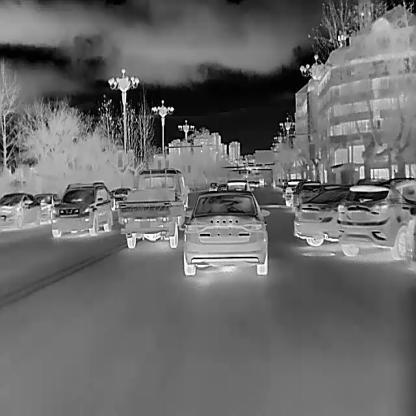car: (183, 188, 267, 274), (336, 176, 415, 257), (117, 167, 189, 248), (293, 185, 353, 246), (50, 179, 112, 236), (0, 190, 41, 230), (33, 192, 61, 224), (293, 180, 321, 209), (284, 178, 305, 206), (113, 187, 131, 208), (226, 178, 250, 191), (208, 180, 218, 190), (258, 177, 263, 185), (253, 182, 257, 186)
